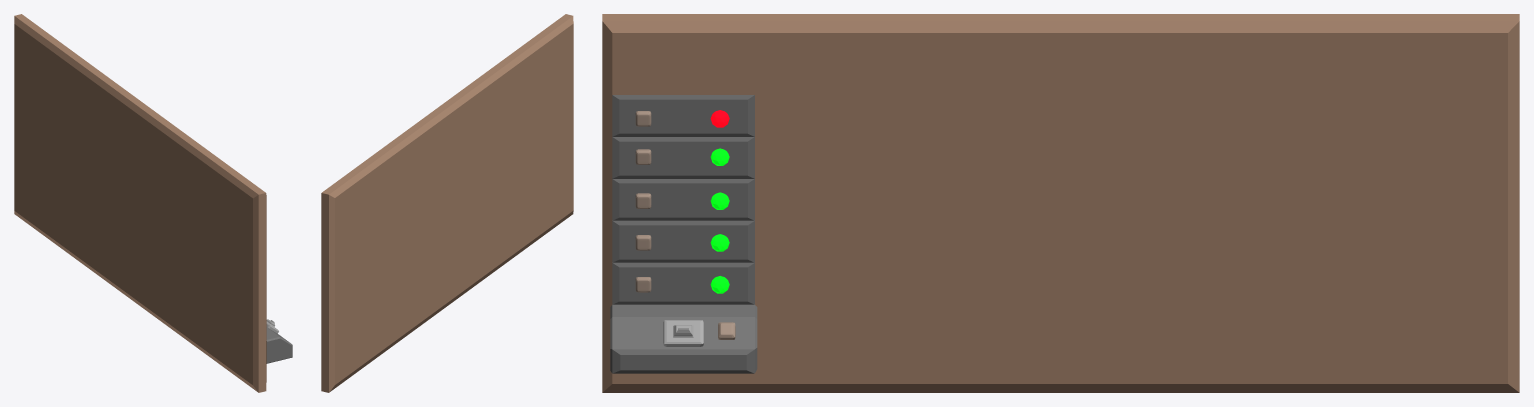
Rendered from Billboard.fbx.
3 renders of one model, left to right at view 1: azimuth 30°, elevation 25°; view 2: azimuth 150°, elevation 25°; view 3: azimuth 270°, elevation 25°, orthographic. The views are drawn at different scales.
Visible parts, largest first — view 1: Billboard; view 2: Billboard; view 3: Billboard, CardReader.
Boxes of the visible parts, x1,y1,x2,y2 form: Billboard: (14,14,292,392); Billboard: (321,14,573,392); Billboard: (602,14,1519,392); CardReader: (663,320,703,346).
Bounding box in the file's own units: 112 × 521 × 1164.
